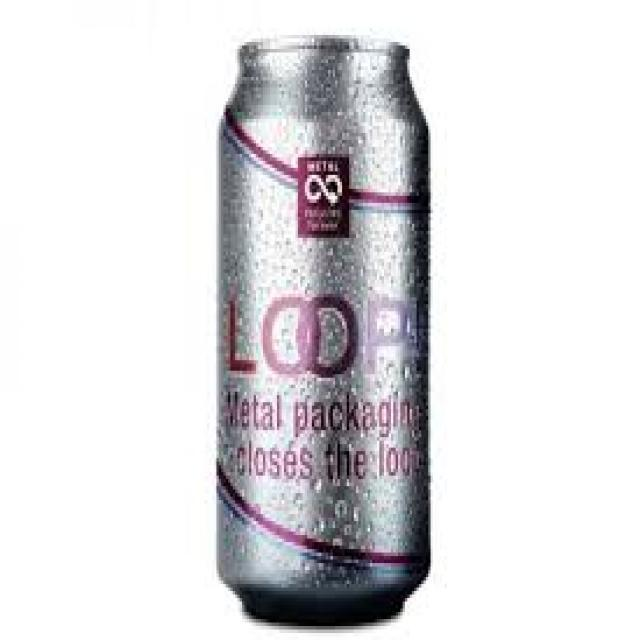recyclable: (216, 36, 431, 628)
